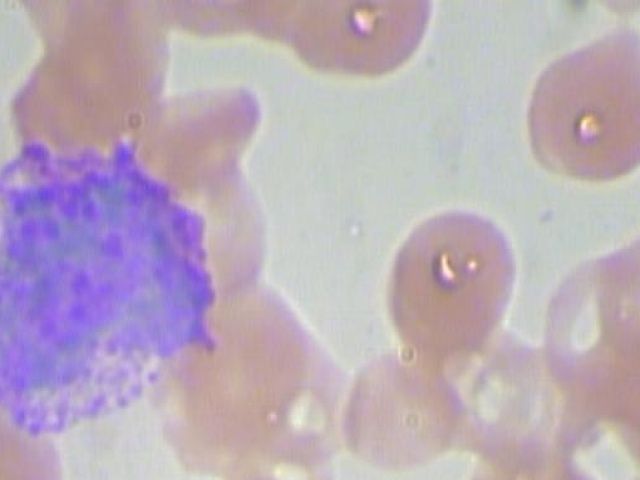RBC: (371, 197, 525, 359), (505, 21, 640, 183), (444, 330, 579, 478), (331, 335, 466, 480), (118, 68, 267, 189), (529, 239, 640, 386), (57, 0, 167, 125), (542, 364, 640, 480), (315, 0, 450, 79), (268, 0, 403, 79), (204, 0, 339, 52), (433, 449, 635, 480), (149, 0, 284, 42), (202, 464, 332, 480), (95, 464, 225, 480)
WBC: (0, 139, 221, 435)
